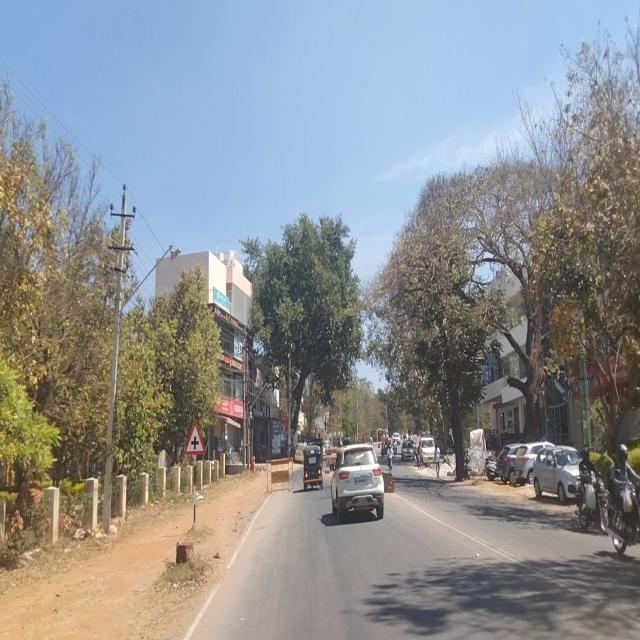bien_nguy_hiem: (184, 420, 206, 455)
